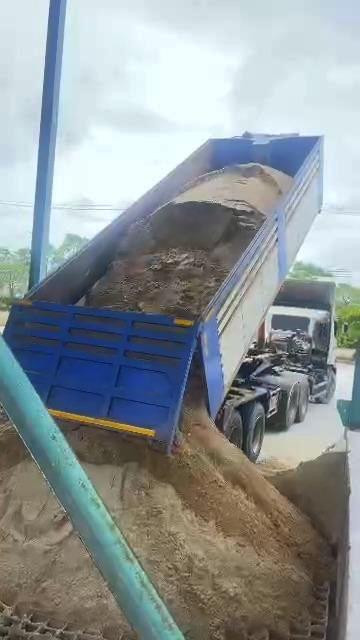sand: (67, 388, 333, 639), (0, 401, 134, 639), (86, 164, 291, 315), (271, 451, 348, 544), (258, 457, 294, 478)
